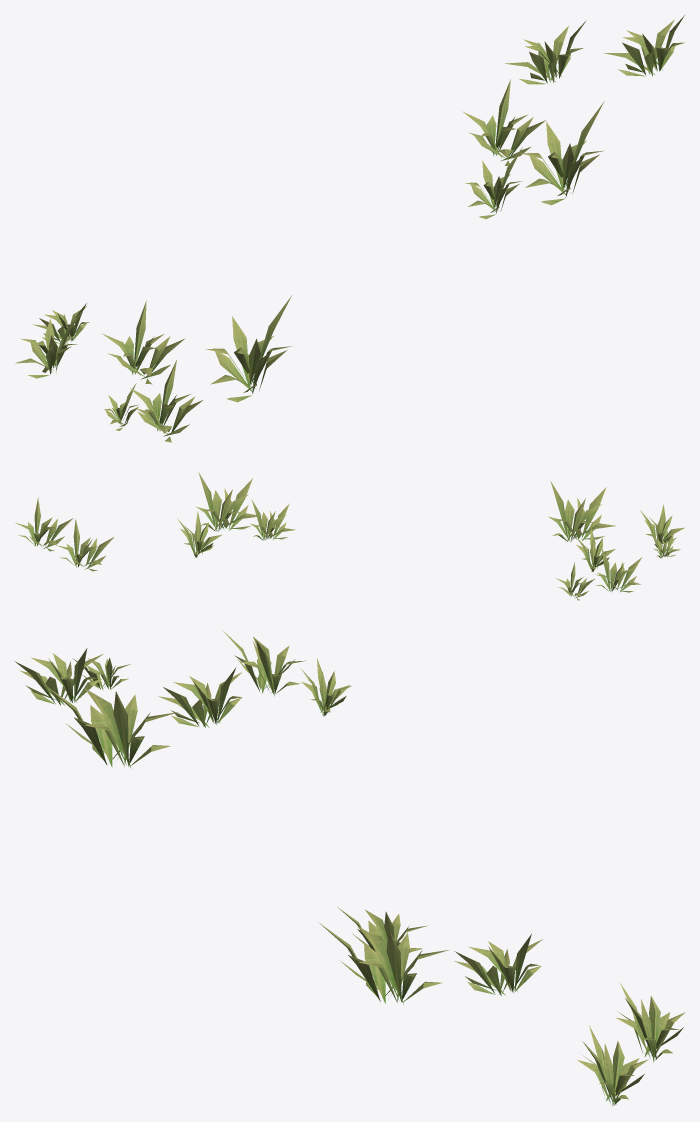
The model's file is area_09_9.fbx.
3 views of the same model, one above another, from view 1: azimuth 30°, elevation 25°; view 2: azimuth 150°, elevation 25°; view 3: azimuth 270°, elevation 25° (orthographic). The views are drawn at different scales.
Visible parts, largest first — view 1: area_09_9; view 2: area_09_9; view 3: area_09_9.
Part boxes in pixels (x1,y1,x2,y2): area_09_9: (15, 15, 684, 442); area_09_9: (15, 472, 684, 600); area_09_9: (14, 630, 685, 1106).
Bounding box in the file's own units: 12.38 × 1.23 × 7.83.
